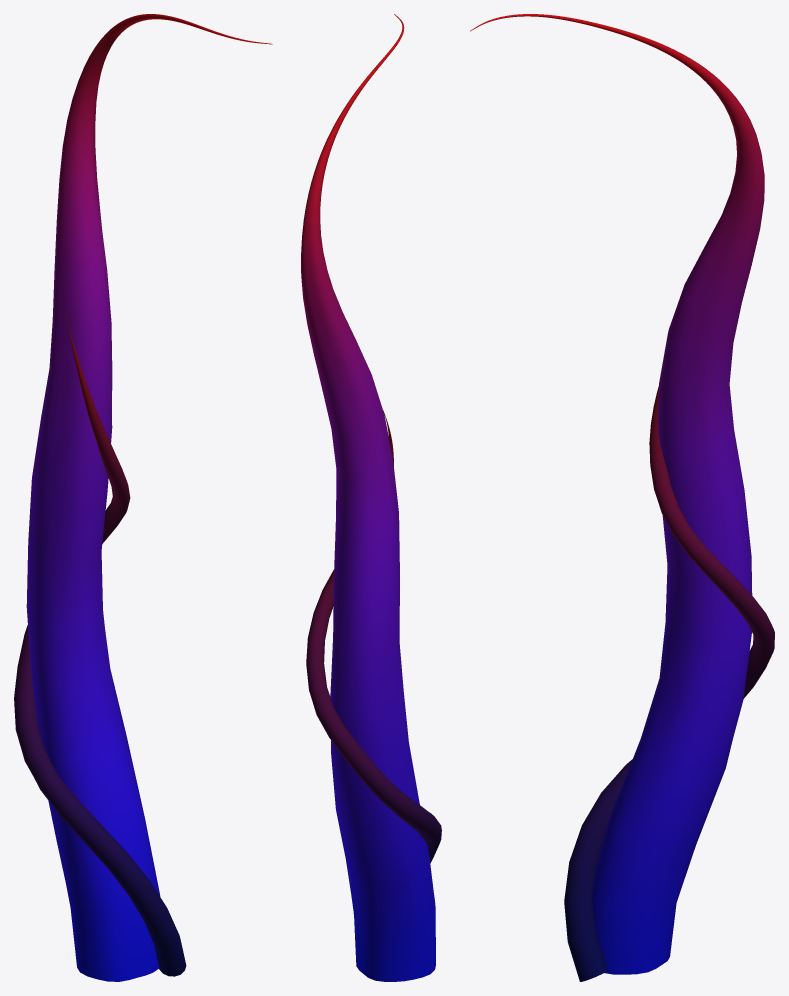
The model's file is Tentacle_G.fbx.
3 views of the same model, side by side, from view 1: azimuth 30°, elevation 25°; view 2: azimuth 150°, elevation 25°; view 3: azimuth 270°, elevation 25° (orthographic). The views are drawn at different scales.
Parts seen in each view (by area): view 1: Tentacle_G_LOD0; view 2: Tentacle_G_LOD0; view 3: Tentacle_G_LOD0.
Part boxes in pixels (x1,y1,x2,y2): Tentacle_G_LOD0: (14, 14, 272, 981); Tentacle_G_LOD0: (301, 14, 441, 981); Tentacle_G_LOD0: (470, 14, 774, 981).
Size of what is drawn, in the model's own units: 37.63 by 247 by 70.34.
